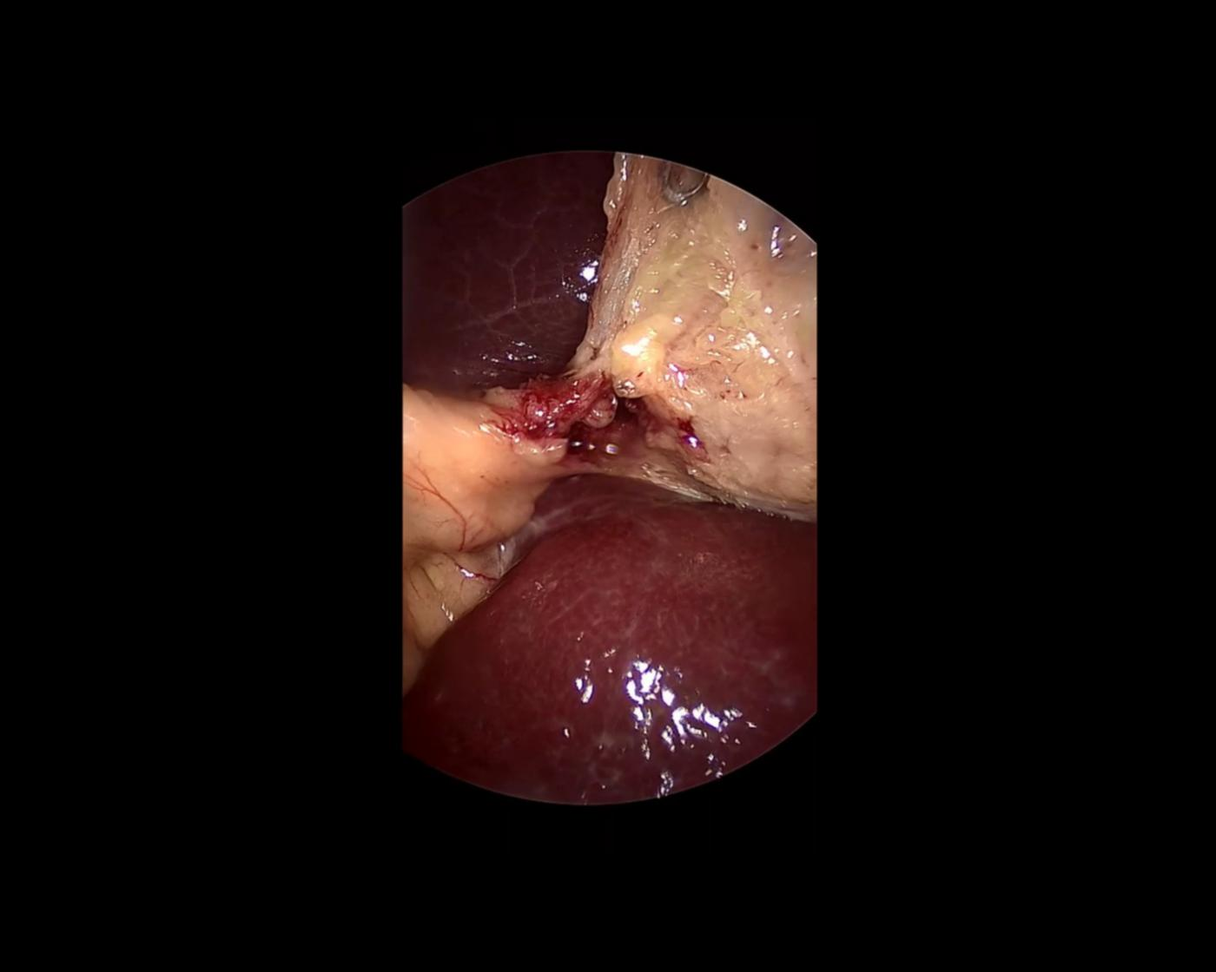Forceps: (653, 161, 710, 210)
Gallbladder: (583, 154, 814, 521)
Liver: (389, 454, 843, 833), (402, 152, 611, 389)
